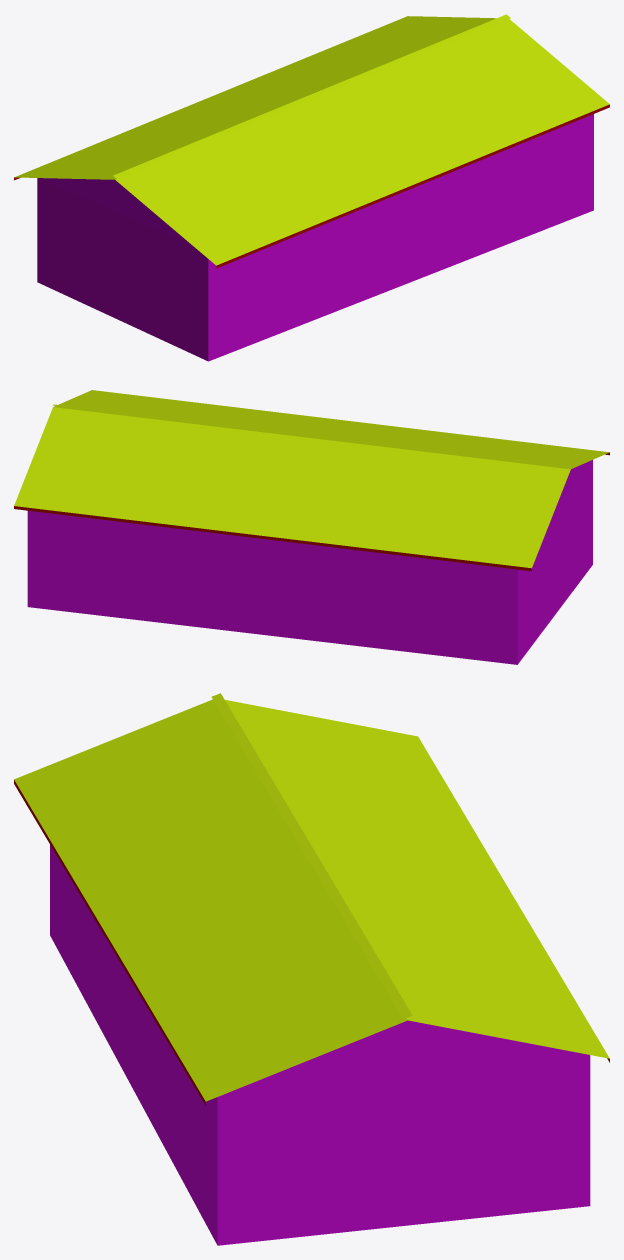
File: scl_80.glb
3 views of the same model, one above another, from view 1: azimuth 30°, elevation 25°; view 2: azimuth 150°, elevation 25°; view 3: azimuth 270°, elevation 25° (orthographic). The views are drawn at different scales.
Visible parts, largest first — view 1: scl_80; view 2: scl_80; view 3: scl_80.
Part boxes in pixels (x1,y1,x2,y2): scl_80: (14, 14, 609, 361); scl_80: (14, 390, 609, 664); scl_80: (14, 693, 609, 1245).
Size of the model in its own units: 21.3 by 5.89 by 14.69.
